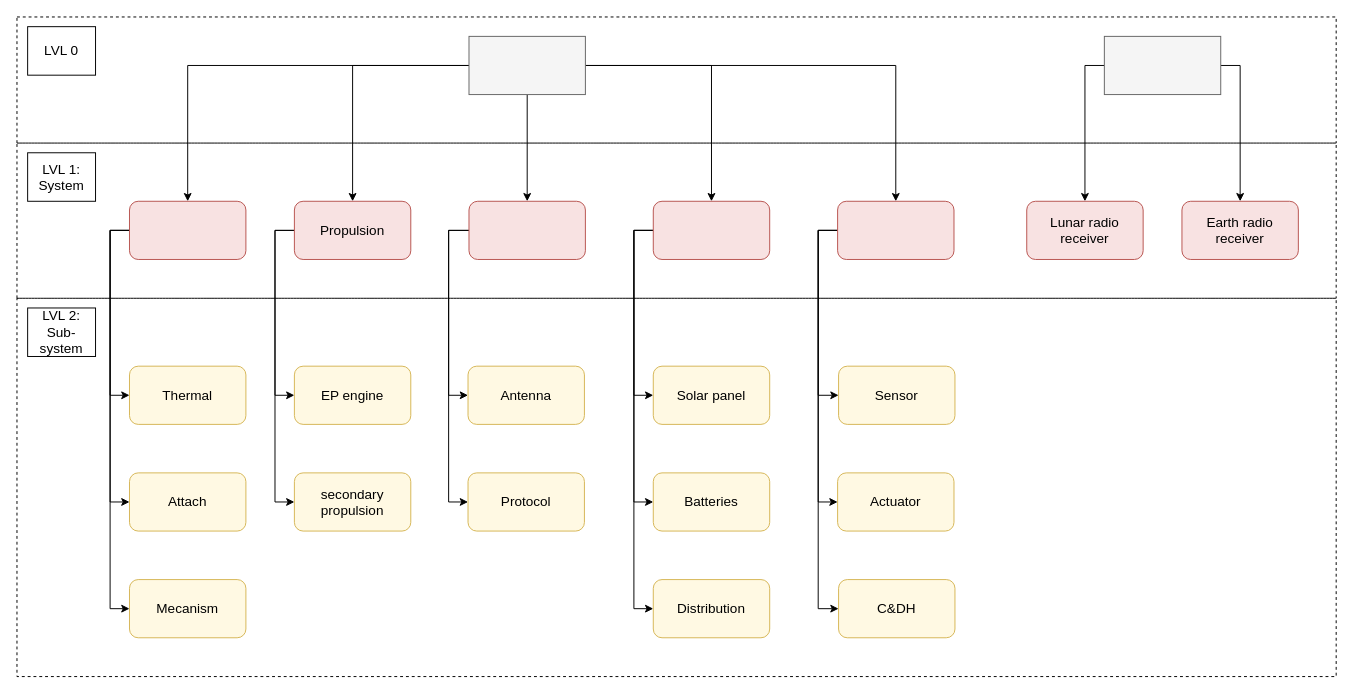
Some shapes in this 1353 by 694 pixel diagram are drawn without their labels. Here are the shapes that lost their labels. From the top down, the centre of each, then its label:
At point (526, 65): "Spacecraft".
At point (1162, 65): "Ground Segment".
At point (187, 229): "Structure".
At point (526, 229): "Telecommunication".
At point (711, 229): "Electrical Power".
At point (895, 229): "ADCS".
